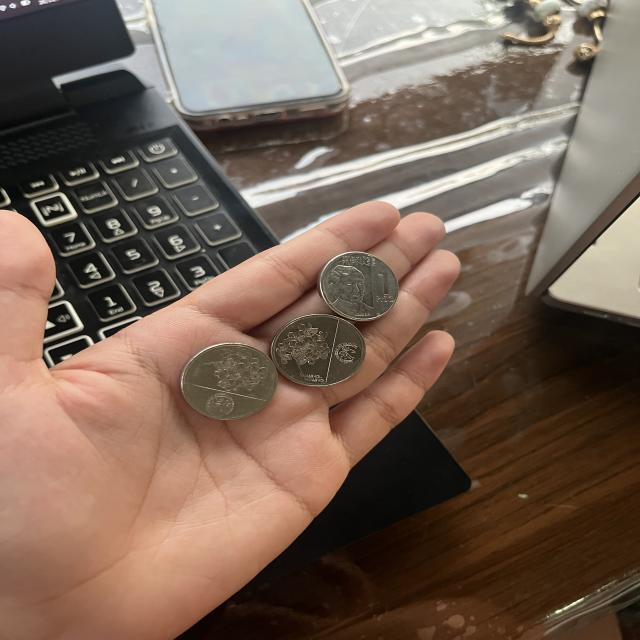1_New_Back: (188, 343, 270, 420), (274, 308, 360, 376)
1_New_Front: (323, 255, 397, 318)
